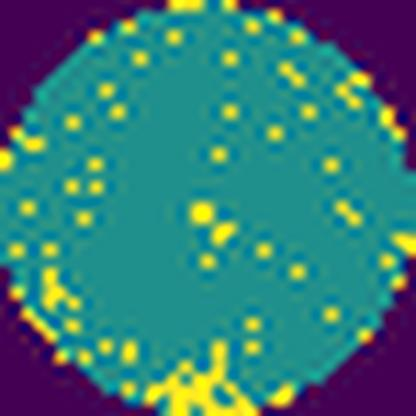Edge-Loc: (137, 340, 265, 416)
